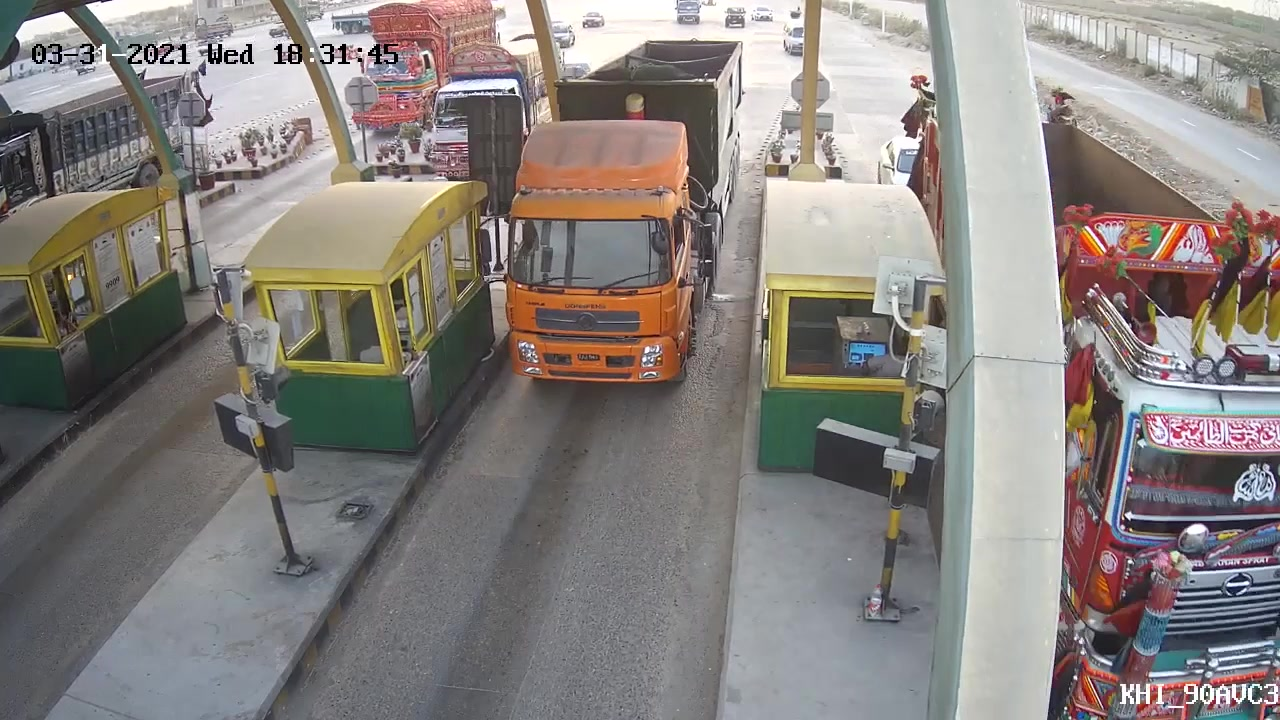F5: (461, 32, 759, 396)
